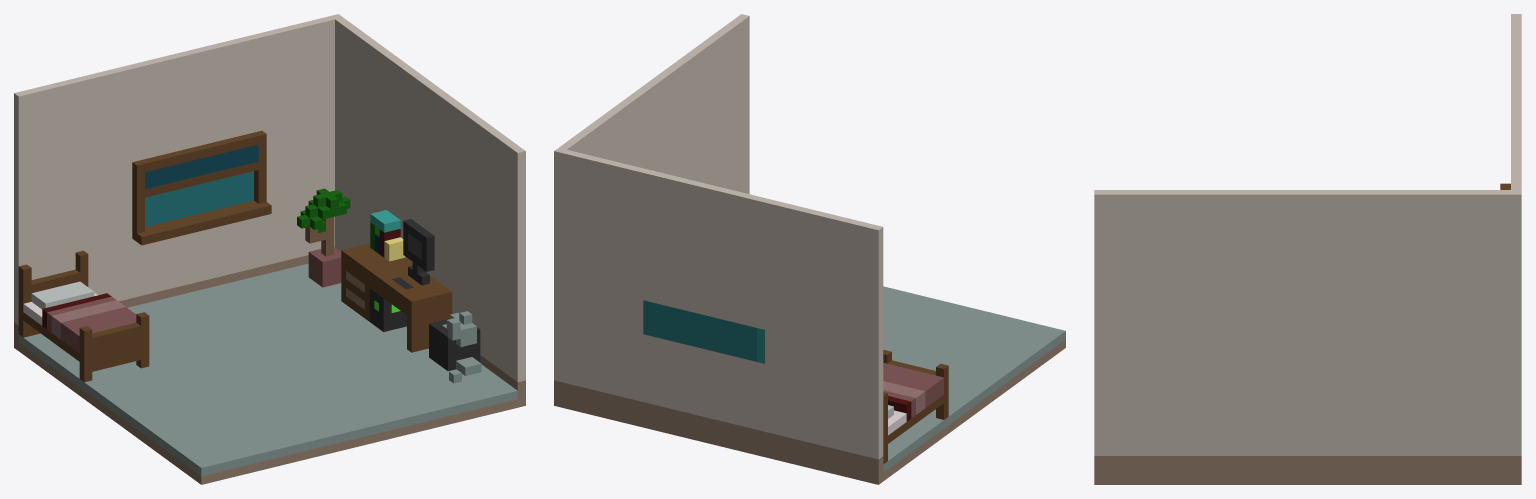
Rendered from bedroom.glb.
3 renders of one model, left to right at view 1: azimuth 30°, elevation 25°; view 2: azimuth 150°, elevation 25°; view 3: azimuth 270°, elevation 25°, orthographic. The views are drawn at different scales.
Parts seen in each view (by area): view 1: Object_2; view 2: Object_2; view 3: Object_2.
Boxes of the visible parts, box(x1,y1,x2,y2) form: Object_2: box(14, 14, 525, 484); Object_2: box(554, 14, 1065, 484); Object_2: box(1094, 14, 1521, 484).
Bounding box in the file's own units: 4 × 3 × 4.
1 material, 1 textured.
